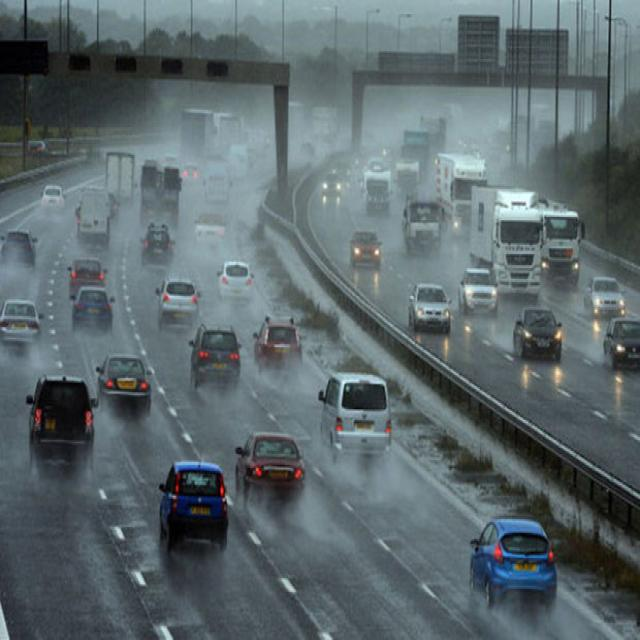bus: (471, 183, 539, 297), (540, 194, 583, 285), (434, 143, 472, 240), (402, 197, 444, 262), (142, 158, 180, 229), (402, 130, 432, 188), (218, 109, 242, 178), (362, 161, 390, 220), (108, 150, 136, 208), (185, 109, 212, 162), (314, 106, 342, 150), (206, 166, 230, 212), (395, 163, 417, 206)
car: (469, 516, 556, 606), (231, 429, 306, 518), (158, 460, 228, 546), (320, 370, 392, 452), (26, 375, 94, 445), (98, 352, 151, 411), (192, 327, 242, 387), (512, 306, 563, 360), (408, 280, 450, 332), (253, 318, 300, 361), (76, 186, 112, 242), (601, 316, 638, 370), (458, 267, 498, 313), (71, 285, 113, 326), (68, 268, 109, 310), (586, 276, 626, 319), (158, 278, 198, 320), (0, 297, 40, 339), (67, 256, 106, 299), (217, 259, 253, 297), (191, 211, 227, 248), (140, 221, 172, 262), (0, 230, 35, 266), (349, 229, 382, 265), (40, 183, 64, 212), (179, 160, 201, 188), (321, 170, 343, 196), (26, 135, 47, 156)
